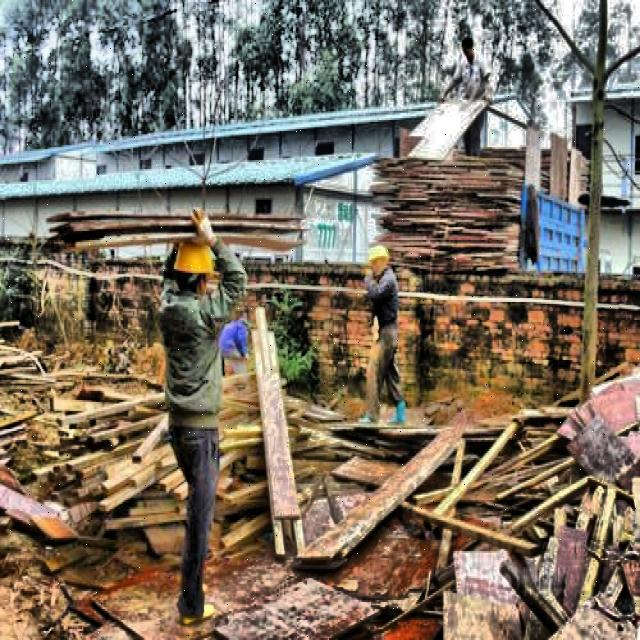helmet: (174, 232, 215, 300), (368, 242, 392, 282)
